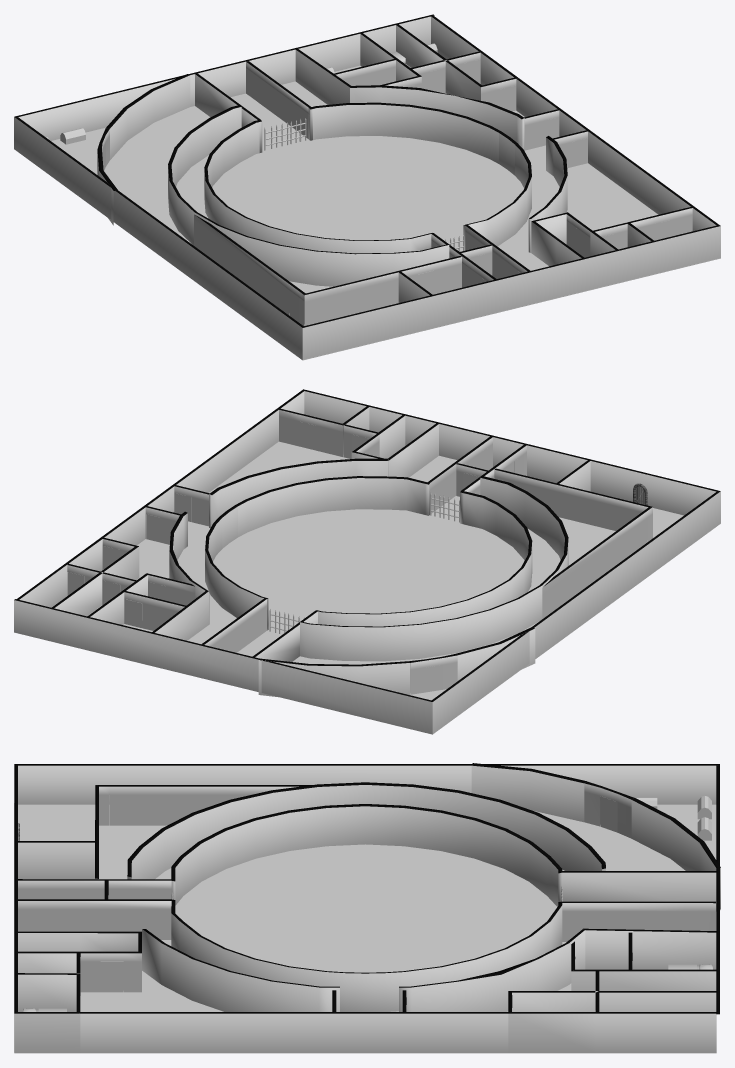
File: Arena_T_V_0_4.fbx
3 views of the same model, one above another, from view 1: azimuth 30°, elevation 25°; view 2: azimuth 150°, elevation 25°; view 3: azimuth 270°, elevation 25° (orthographic). The views are drawn at different scales.
Parts seen in each view (by area): view 1: Cylinder, Plane, Vorota; view 2: Cylinder, Plane; view 3: Cylinder, Plane, Door.009, Door.013, Door.014, Door.010, Door.015.
Part boxes in pixels (bbox=[...]): Cylinder: bbox=[14, 14, 720, 360]; Plane: bbox=[51, 63, 695, 355]; Vorota: bbox=[264, 118, 306, 150]; Cylinder: bbox=[14, 389, 720, 734]; Plane: bbox=[88, 441, 683, 700]; Cylinder: bbox=[14, 763, 720, 1053]; Plane: bbox=[14, 803, 716, 1052]; Door.009: bbox=[100, 961, 123, 992]; Door.013: bbox=[109, 795, 132, 825]; Door.014: bbox=[600, 796, 617, 832]; Door.010: bbox=[25, 909, 48, 931]; Door.015: bbox=[685, 911, 708, 930].
Size of the model in its own units: 2113 by 178 by 2515.
